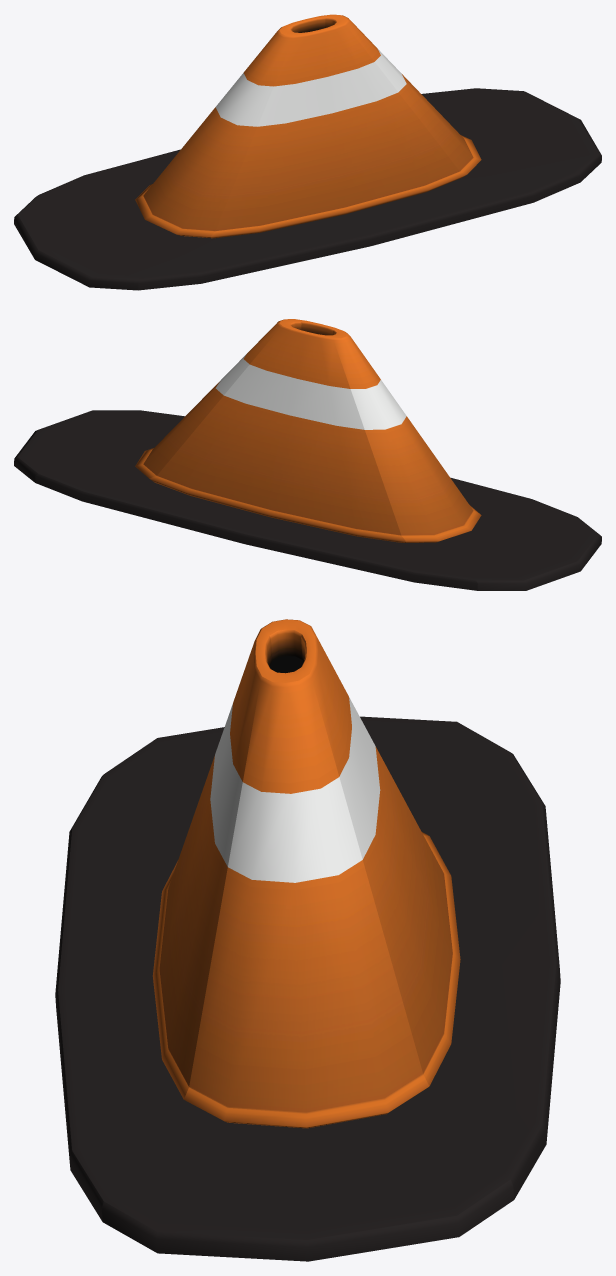
File: constructioncone_lod0.004_lev1.glb
The picture shows the model from 3 angles, top to bottom: view 1: azimuth 30°, elevation 25°; view 2: azimuth 150°, elevation 25°; view 3: azimuth 270°, elevation 25°; orthographic projection. The views are drawn at different scales.
Parts seen in each view (by area): view 1: constructioncone_lod0.004_lev1; view 2: constructioncone_lod0.004_lev1; view 3: constructioncone_lod0.004_lev1.
Boxes of the visible parts, <box> form: constructioncone_lod0.004_lev1: <box>14,14,601,290</box>; constructioncone_lod0.004_lev1: <box>14,319,601,590</box>; constructioncone_lod0.004_lev1: <box>55,619,560,1261</box>.
Bounding box in the file's own units: 5.92 × 1.86 × 2.37.
1 material, 1 textured.
